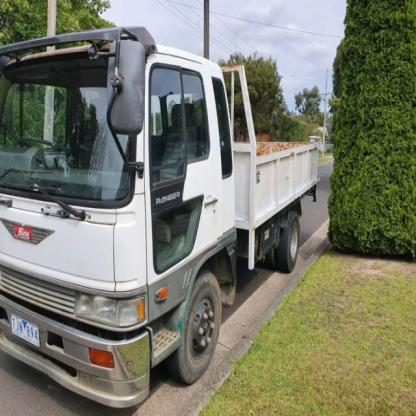dump_truck: (1, 24, 332, 402)
